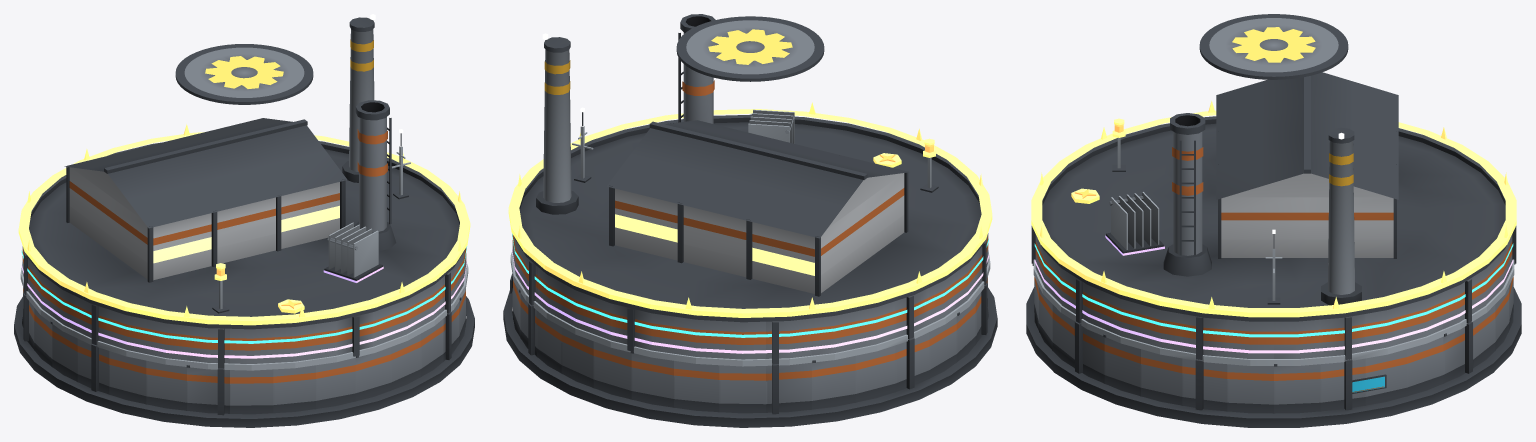
The model's file is refinery_s.glb.
3 renders of one model, left to right at view 1: azimuth 30°, elevation 25°; view 2: azimuth 150°, elevation 25°; view 3: azimuth 270°, elevation 25°, orthographic. The views are drawn at different scales.
Parts seen in each view (by area): view 1: Roof, Base, L4, Wall_21, Wall_20, Wall_22, Wall_19, Wall_23, Wall_18, Wall_24, Wall_17, Upper_20 (+24 smaller); view 2: Roof, Base, Wall_10, Wall_11, Wall_09, Wall_12, Wall_08, Wall_13, Wall_07, Wall_14, Upper_11, Upper_10 (+27 smaller); view 3: Roof, Base, L4, Wall_00, Wall_31, Wall_30, Wall_01, Wall_29, Wall_28, Wall_03, Wall_02, Upper_01 (+27 smaller).
Boxes of the visible parts, x1,y1,x2,y2 form: Roof: (26,14,465,329); Base: (14,296,474,427); L4: (323,222,383,282); Wall_21: (230,369,273,414); Wall_20: (186,365,229,415); Wall_22: (273,365,315,413); Wall_19: (146,360,186,410); Wall_23: (316,357,355,408); Wall_18: (109,351,146,404); Wall_24: (355,347,390,401); Wall_17: (77,339,109,394); Upper_20: (187,326,229,368); Roof: (514,14,984,322); Base: (503,287,997,427); Wall_10: (719,365,765,413); Wall_11: (766,362,811,414); Wall_09: (674,361,719,412); Wall_12: (812,356,855,409); Wall_08: (630,351,673,407); Wall_13: (855,345,895,402); Wall_07: (593,341,631,399); Wall_14: (895,332,929,392); Upper_11: (766,318,811,364); Upper_10: (719,321,765,359); Roof: (1041,14,1506,321); Base: (1026,287,1521,427); L4: (1105,192,1164,255); Wall_00: (1274,364,1320,413); Wall_31: (1227,364,1273,413); Wall_30: (1182,358,1227,411); Wall_01: (1320,358,1365,411); Wall_29: (1140,349,1182,405); Wall_28: (1103,334,1140,396); Wall_03: (1407,337,1443,396); Wall_02: (1365,349,1406,405); Upper_01: (1320,314,1365,359).
Size of the model in its own units: 11.74 by 7.28 by 11.74.
